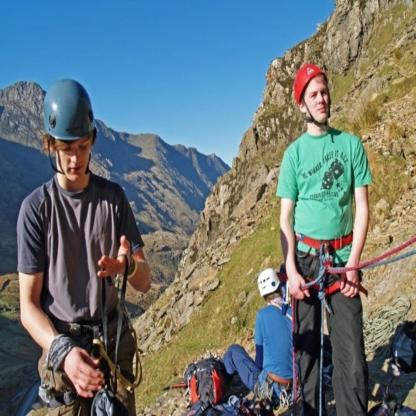Helmet: (42, 83, 92, 182), (291, 63, 332, 128), (256, 266, 281, 302)
